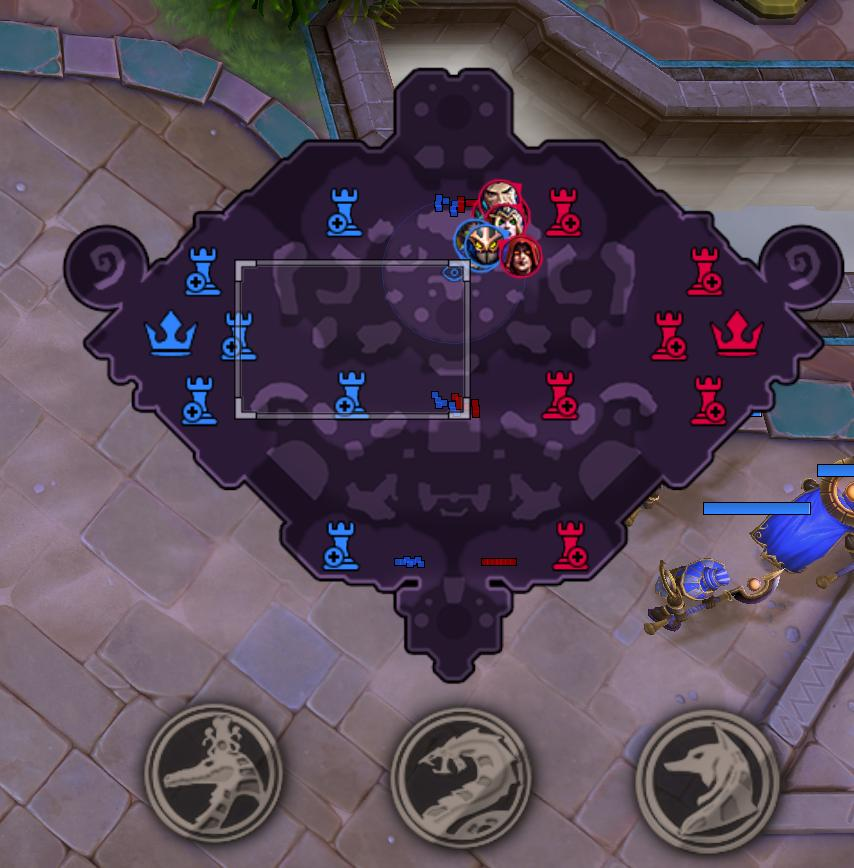blue nexus: (143, 307, 198, 356)
blue player: (457, 221, 502, 270)
blue tower: (179, 374, 218, 426), (183, 244, 222, 296), (322, 517, 359, 570), (326, 185, 363, 237), (220, 309, 257, 361), (332, 367, 369, 418)
red nexus: (710, 309, 764, 357)
red player: (500, 237, 542, 278), (485, 199, 527, 240), (477, 179, 521, 218)
red tower: (649, 309, 688, 362), (540, 368, 578, 421), (544, 186, 582, 239), (686, 244, 723, 298), (552, 517, 588, 570), (689, 375, 726, 426)
